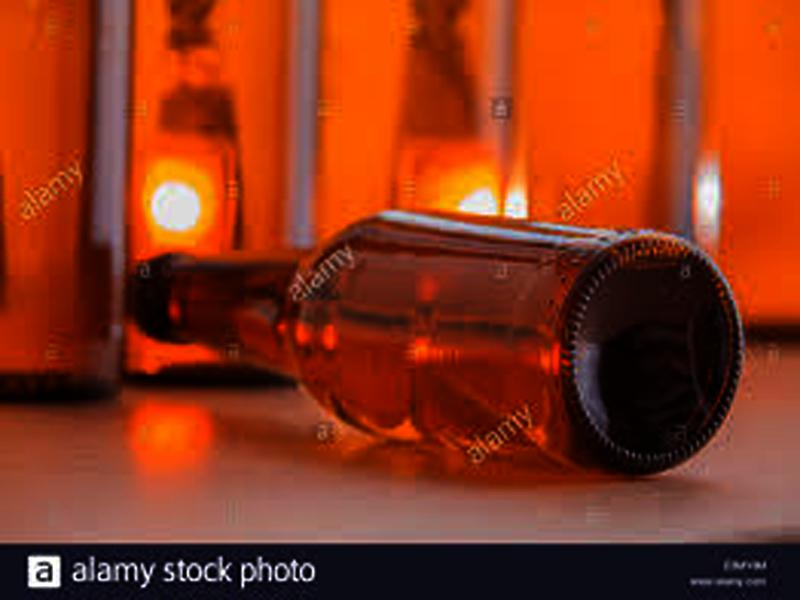Beer: (137, 206, 745, 488)
